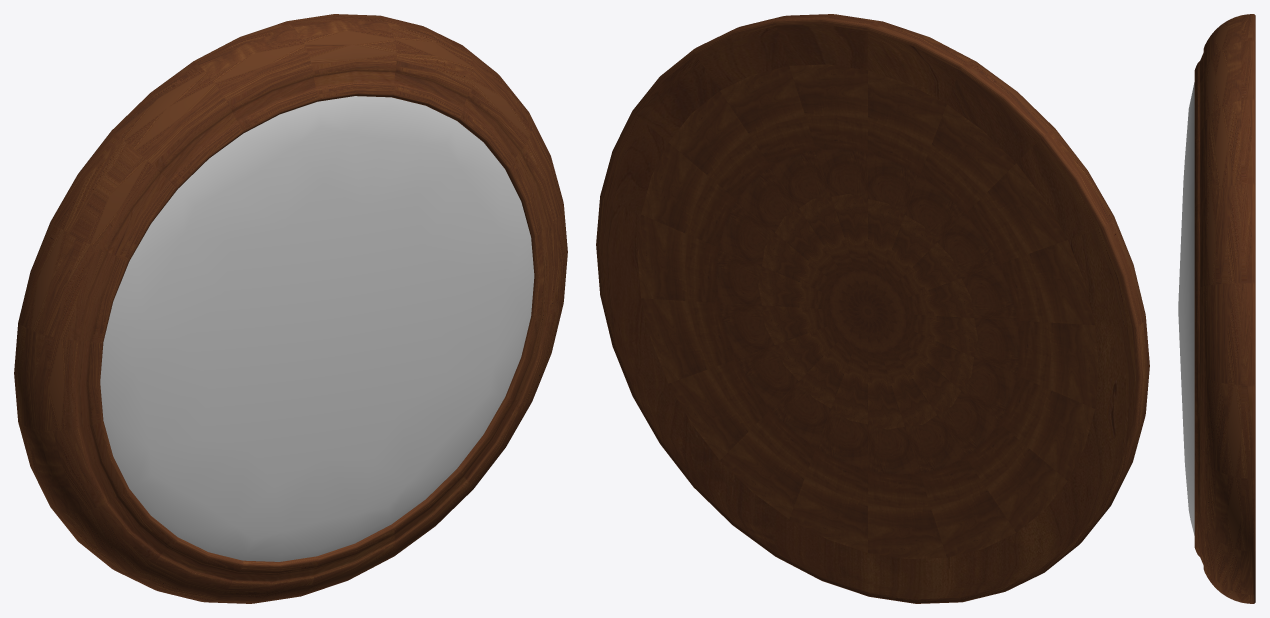
Rendered from Wall Clock.obj.
3 views of the same model, side by side, from view 1: azimuth 30°, elevation 25°; view 2: azimuth 150°, elevation 25°; view 3: azimuth 270°, elevation 25° (orthographic). The views are drawn at different scales.
Visible parts, largest first — view 1: секло, крпус; view 2: крпус; view 3: крпус, секло.
Boxes of the visible parts, x1,y1,x2,y2 form: секло: (100, 96, 534, 561); крпус: (14, 14, 567, 603); крпус: (596, 14, 1149, 603); крпус: (1194, 14, 1255, 603); секло: (1178, 82, 1194, 535).
Size of the model in its own units: 252 by 252 by 33.09.
